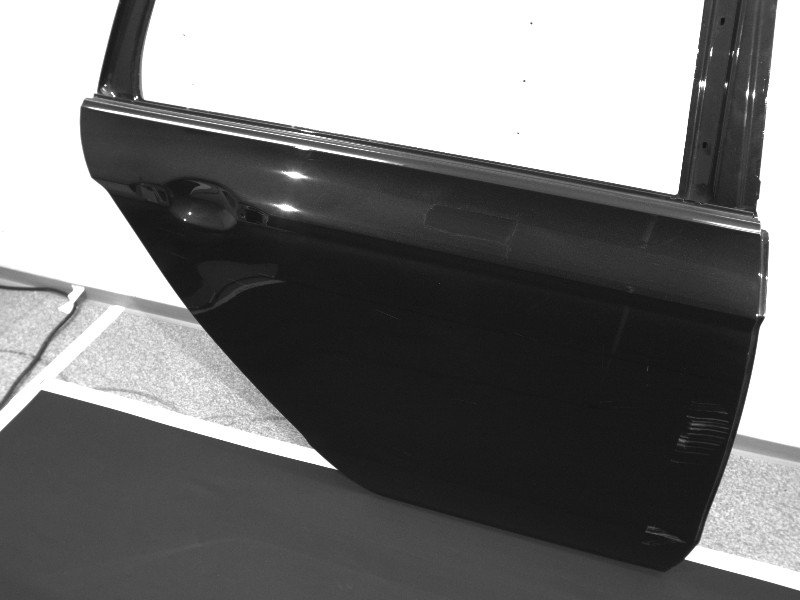scratch: (670, 401, 733, 463), (641, 526, 687, 548), (373, 307, 401, 321), (226, 277, 249, 287), (452, 398, 477, 405), (169, 252, 189, 260), (257, 272, 274, 278), (402, 450, 414, 458), (645, 366, 650, 372)
